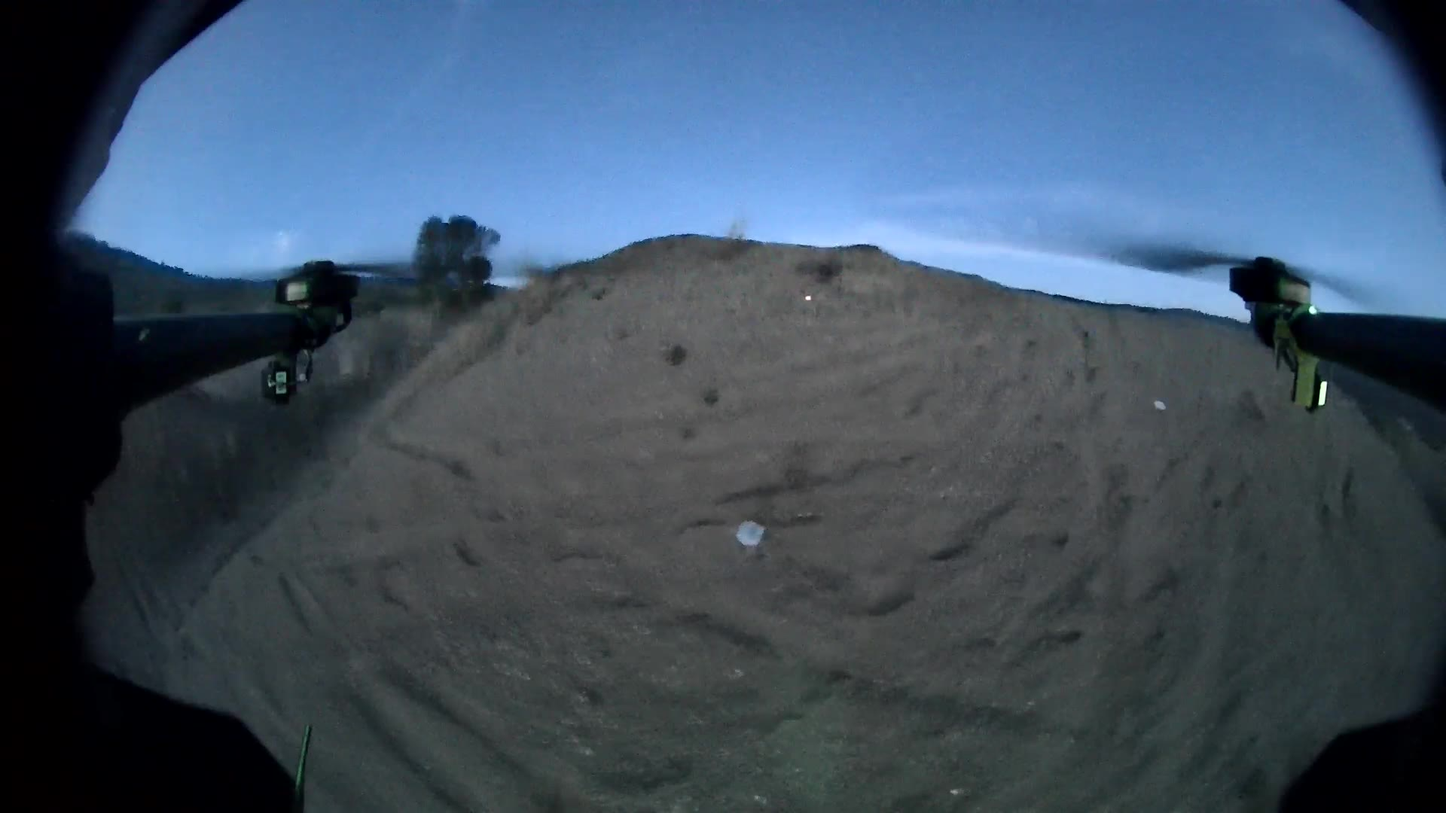Target: (735, 519, 766, 548), (1152, 395, 1167, 412)
